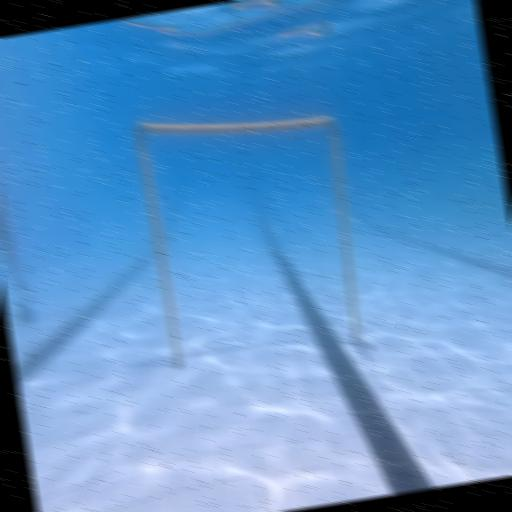gate: (132, 92, 375, 382)
